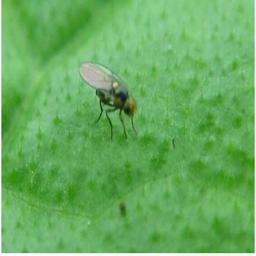liriomyza: (79, 62, 137, 142)
